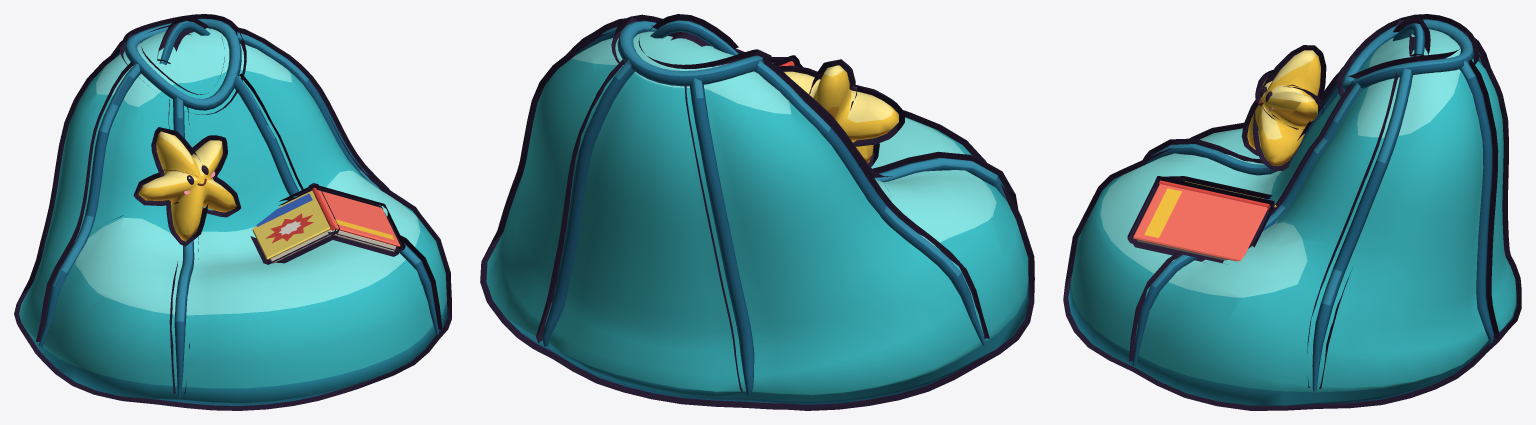
File: BeanBag.glb
3 views of the same model, side by side, from view 1: azimuth 30°, elevation 25°; view 2: azimuth 150°, elevation 25°; view 3: azimuth 270°, elevation 25° (orthographic). The views are drawn at different scales.
Parts seen in each view (by area): view 1: BeanBag, BeanBag_Outline; view 2: BeanBag, BeanBag_Outline; view 3: BeanBag, BeanBag_Outline.
Part boxes in pixels (x1,y1,x2,y2): BeanBag: [19, 18, 447, 405]; BeanBag_Outline: [14, 14, 451, 410]; BeanBag: [486, 20, 1028, 404]; BeanBag_Outline: [480, 14, 1034, 410]; BeanBag: [1068, 19, 1516, 405]; BeanBag_Outline: [1063, 14, 1521, 410].
Bounding box in the file's own units: 11.39 × 8.17 × 10.85.
Materials: 1 (1 with a texture image).
